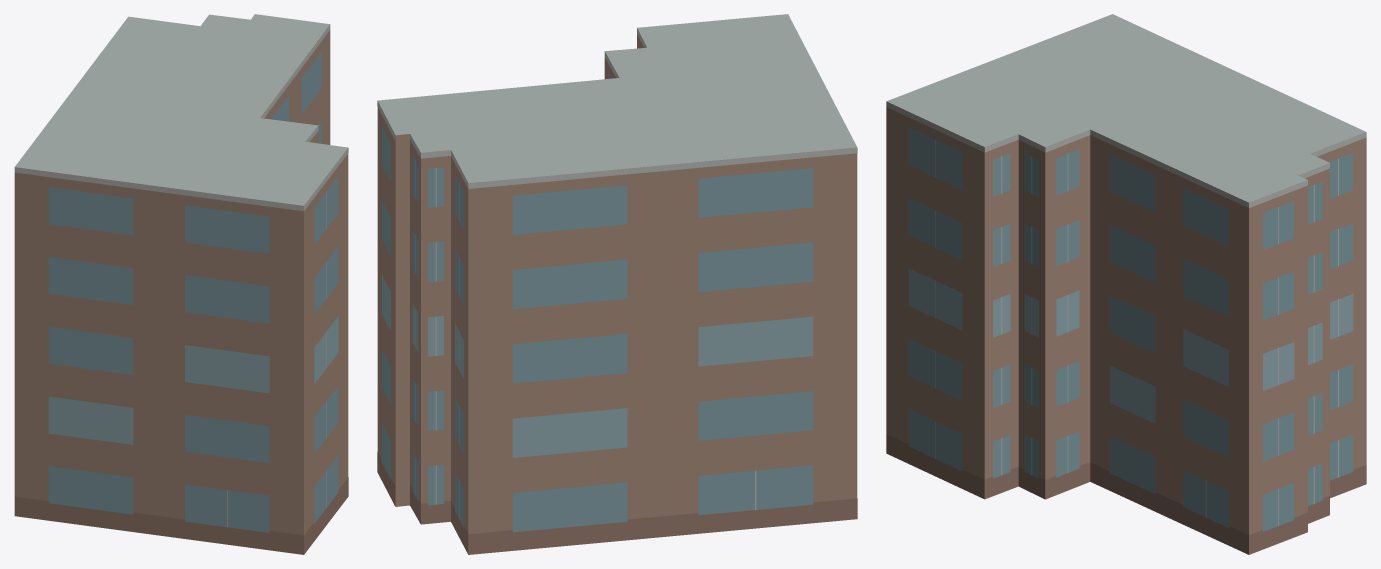
File: survey-upis-32977591.glb
3 views of the same model, side by side, from view 1: azimuth 30°, elevation 25°; view 2: azimuth 150°, elevation 25°; view 3: azimuth 270°, elevation 25° (orthographic). The views are drawn at different scales.
Parts seen in each view (by area): view 1: survey-upis-32977591.tmp; view 2: survey-upis-32977591.tmp; view 3: survey-upis-32977591.tmp.
Boxes of the visible parts, x1,y1,x2,y2 form: survey-upis-32977591.tmp: (14,14,348,554); survey-upis-32977591.tmp: (377,14,857,554); survey-upis-32977591.tmp: (886,14,1366,554).
Bounding box in the file's own units: 18.05 × 15.7 × 19.41.
